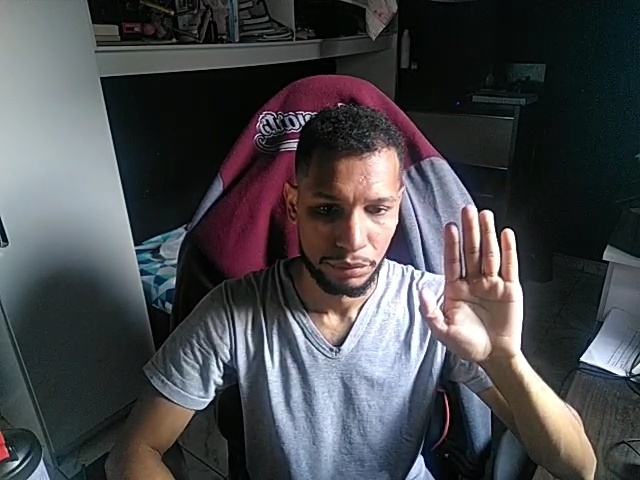oi: (414, 194, 536, 371)
